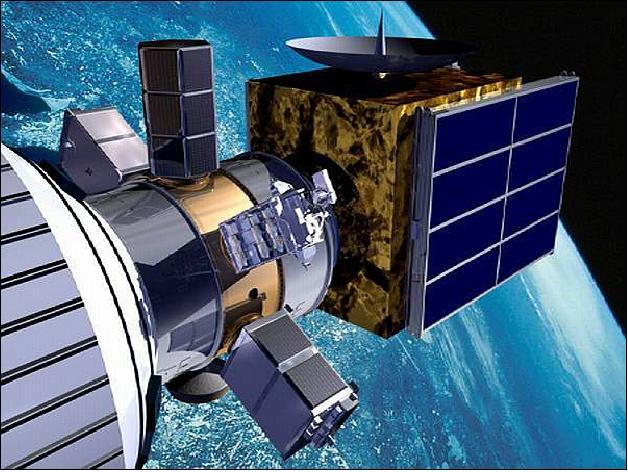antenna: (284, 4, 481, 72), (164, 378, 231, 406)
body: (244, 61, 524, 341), (78, 148, 338, 390)
solar: (420, 76, 581, 340), (249, 312, 348, 409), (141, 47, 190, 179), (175, 44, 221, 180)
